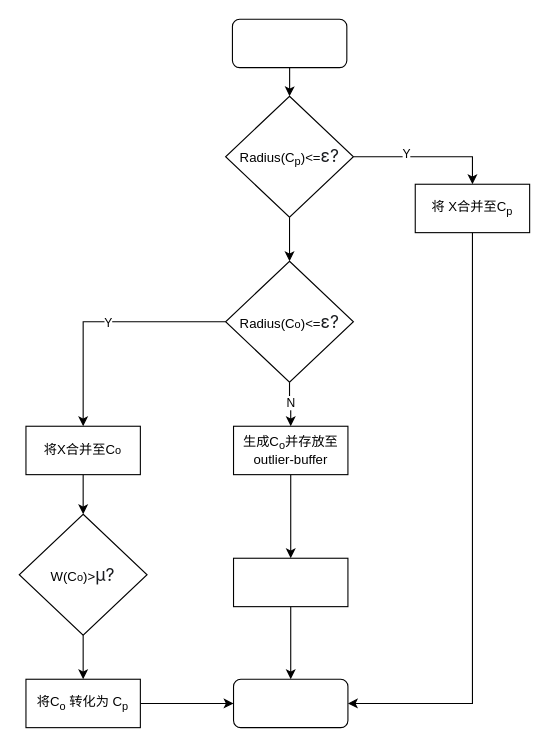
This 549x747 diagram has some shape labels left out. The shapes that lost their labels are listed below. From the top down, each one's centre as x and y in pixels, then its label:
pixel 289 43: 平滑后的时间序列X
pixel 290 582: label=1
pixel 290 703: 结束
